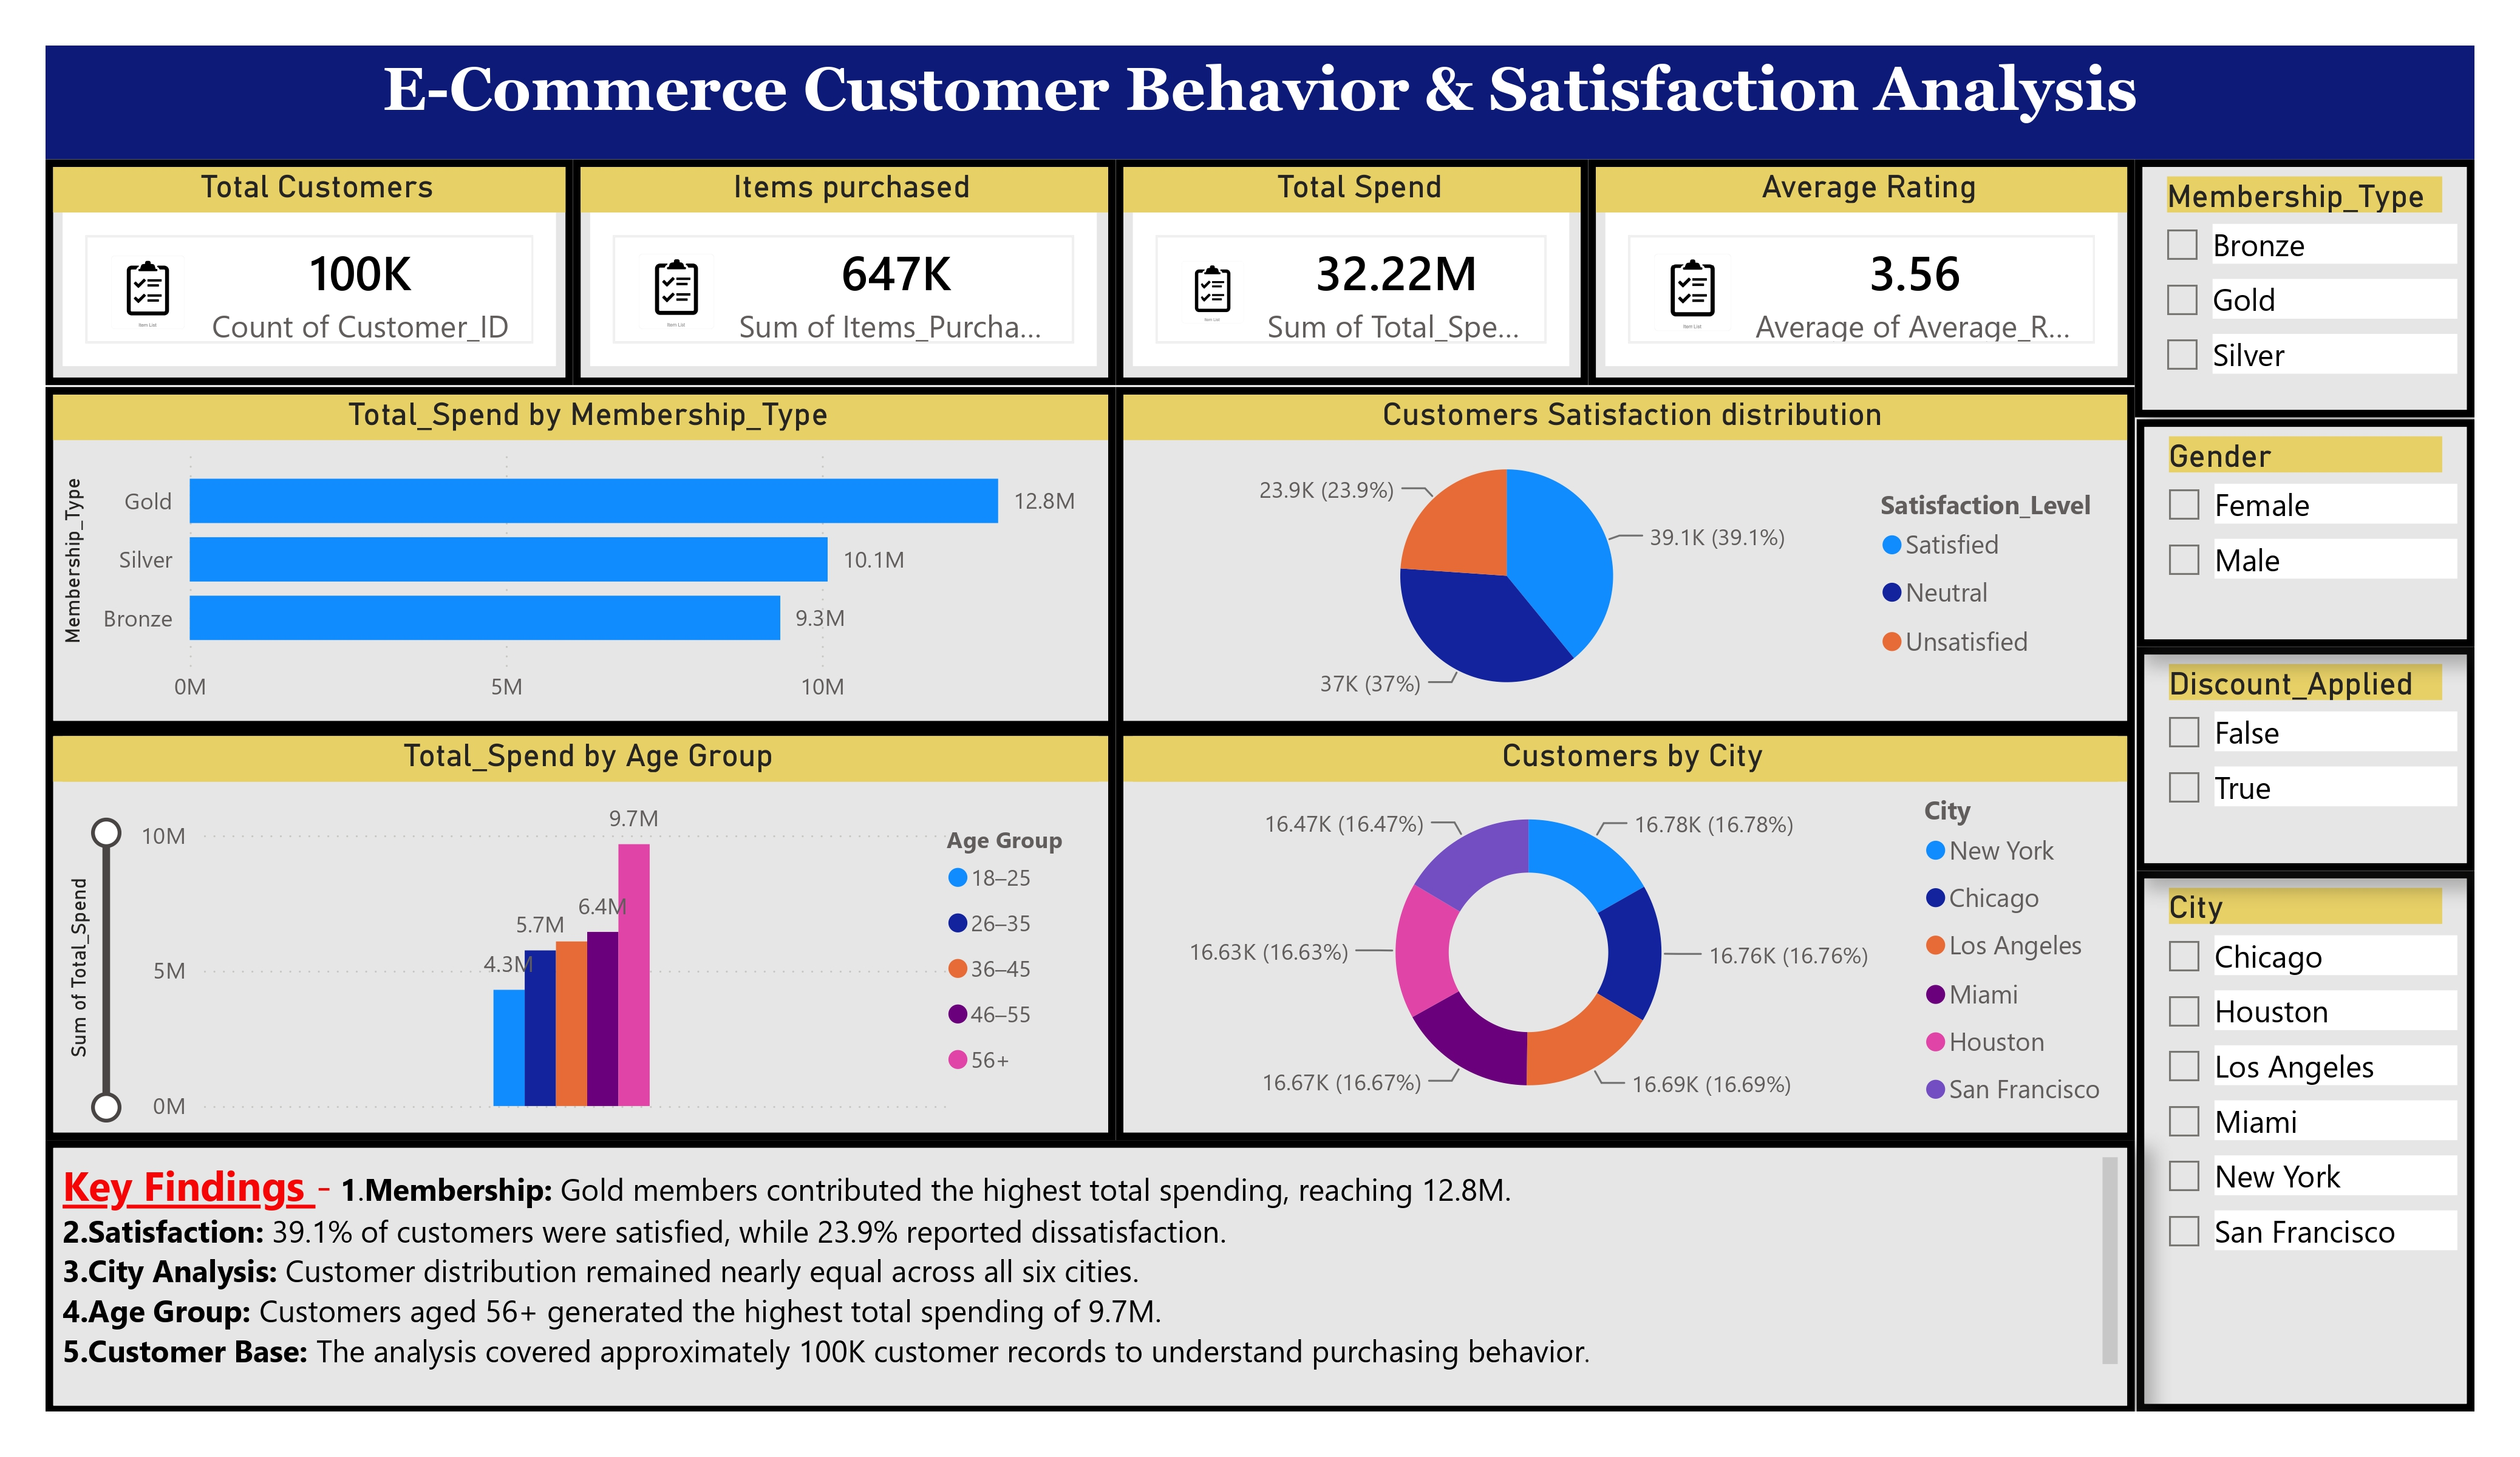

The page's visual inventory and layout, read from the dashboard file:
{"tool":"powerbi","page":{"name":"Page 1","canvas":[1280,720],"ordinal":0},"visuals":[{"type":"slicer","fields":{"Values":["customerdata.Membership_Type"]},"box":[1101.3,60,178.7,136.2],"z":0},{"type":"textbox","box":[0,0,1280,60],"z":1000},{"type":"pieChart","title":"Customers Satisfaction distribution","fields":{"Y":["CountNonNull(customerdata.Customer_ID)"],"Category":["customerdata.Satisfaction_Level"]},"box":[563.8,180.1,537.5,180.1],"z":2000},{"type":"slicer","fields":{"Values":["customerdata.City"]},"box":[1101.7,435,178.3,285],"z":3000},{"type":"clusteredBarChart","title":"Total_Spend by Membership_Type","fields":{"Category":["customerdata.Membership_Type"],"Y":["Sum(customerdata.Total_Spend)"]},"box":[0,180.1,563.8,180.1],"z":4000},{"type":"donutChart","title":"Customers by City","fields":{"Category":["customerdata.City"],"Y":["CountNonNull(customerdata.Customer_ID)"]},"box":[563.8,360.3,537.5,216.8],"z":5000},{"type":"cardVisual","title":"Total Spend","fields":{"Data":["Sum(customerdata.Total_Spend)"]},"box":[563.8,60,249,118.6],"z":6000},{"type":"cardVisual","title":"Total Customers","fields":{"Data":["Count(customerdata.Customer_ID)"]},"box":[0,60,278.3,118.6],"z":7000},{"type":"cardVisual","title":"Average Rating","fields":{"Data":["Avg(customerdata.Average_Rating)"]},"box":[812.8,60,288.5,118.6],"z":8000},{"type":"cardVisual","title":"Items purchased","fields":{"Data":["Sum(customerdata.Items_Purchased)"]},"box":[278.3,60,285.6,118.6],"z":9000},{"type":"clusteredColumnChart","title":"Total_Spend by Age Group","fields":{"Series":["customerdata.Age Group"],"Y":["Sum(customerdata.Total_Spend)"]},"box":[0,360.3,563.8,216.8],"z":9001},{"type":"slicer","fields":{"Values":["customerdata.Discount_Applied"]},"box":[1101.7,316.7,178.3,118.3],"z":9002},{"type":"slicer","fields":{"Values":["customerdata.Gender"]},"box":[1101.7,196.7,178.3,120],"z":9003},{"type":"textbox","box":[0,577,1101.3,143.5],"z":9004}]}

Visuals, with their boxes in screenshot pixels (x1, y1, x2, y2):
slicer - customerdata.Membership_Type: Rect(2128, 158, 2463, 413)
textbox: Rect(66, 46, 2463, 158)
"Customers Satisfaction distribution" pieChart: Rect(1122, 383, 2128, 721)
slicer - customerdata.City: Rect(2129, 860, 2463, 1394)
"Total_Spend by Membership_Type" clusteredBarChart: Rect(66, 383, 1122, 721)
"Customers by City" donutChart: Rect(1122, 721, 2128, 1126)
"Total Spend" cardVisual: Rect(1122, 158, 1588, 380)
"Total Customers" cardVisual: Rect(66, 158, 587, 380)
"Average Rating" cardVisual: Rect(1588, 158, 2128, 380)
"Items purchased" cardVisual: Rect(587, 158, 1122, 380)
"Total_Spend by Age Group" clusteredColumnChart: Rect(66, 721, 1122, 1126)
slicer - customerdata.Discount_Applied: Rect(2129, 639, 2463, 860)
slicer - customerdata.Gender: Rect(2129, 414, 2463, 639)
textbox: Rect(66, 1126, 2128, 1395)
